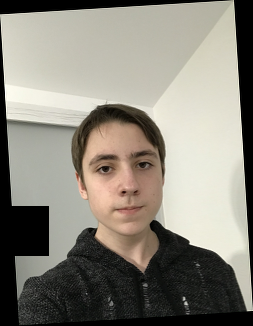without_mask: (85, 144, 163, 237)
